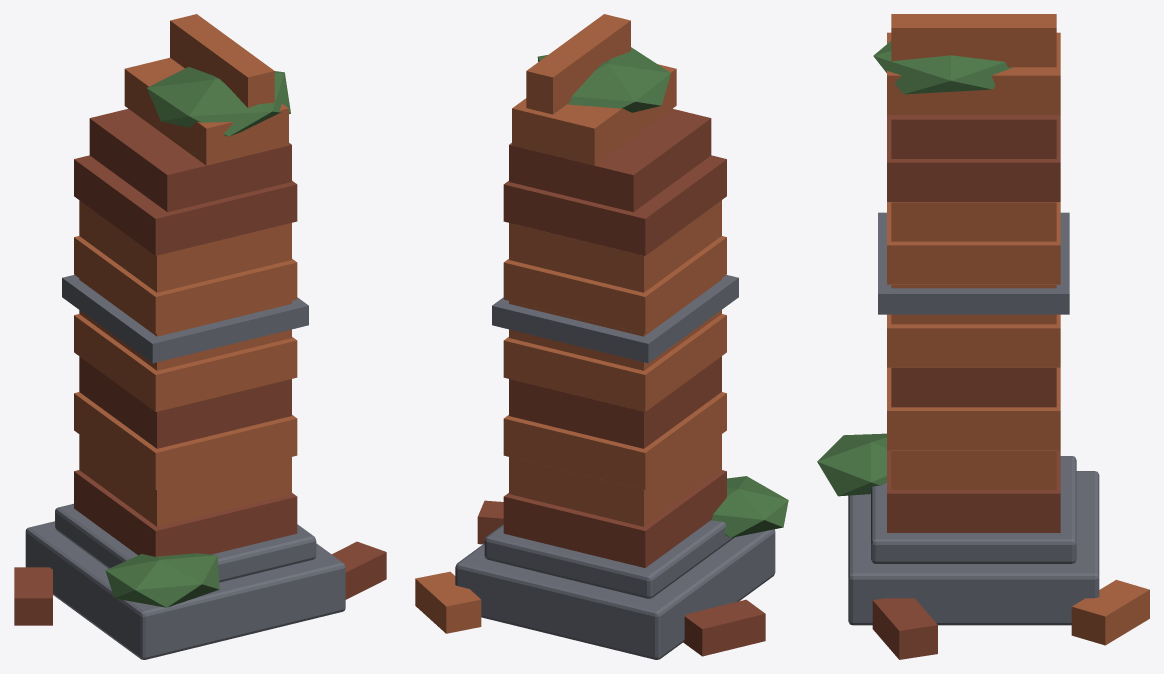
The model's file is candi_pilar.glb.
3 renders of one model, left to right at view 1: azimuth 30°, elevation 25°; view 2: azimuth 150°, elevation 25°; view 3: azimuth 270°, elevation 25°, orthographic. The views are drawn at different scales.
Parts seen in each view (by area): view 1: candi_pilar_mesh; view 2: candi_pilar_mesh; view 3: candi_pilar_mesh.
Boxes of the visible parts, x1,y1,x2,y2 form: candi_pilar_mesh: [14, 14, 386, 659]; candi_pilar_mesh: [415, 14, 788, 659]; candi_pilar_mesh: [817, 14, 1149, 659].
Size of the model in its own units: 1.75 by 2.77 by 1.46.
